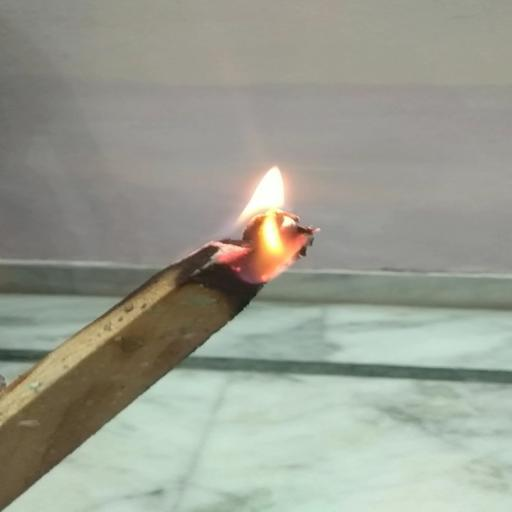fire: (206, 159, 323, 290)
